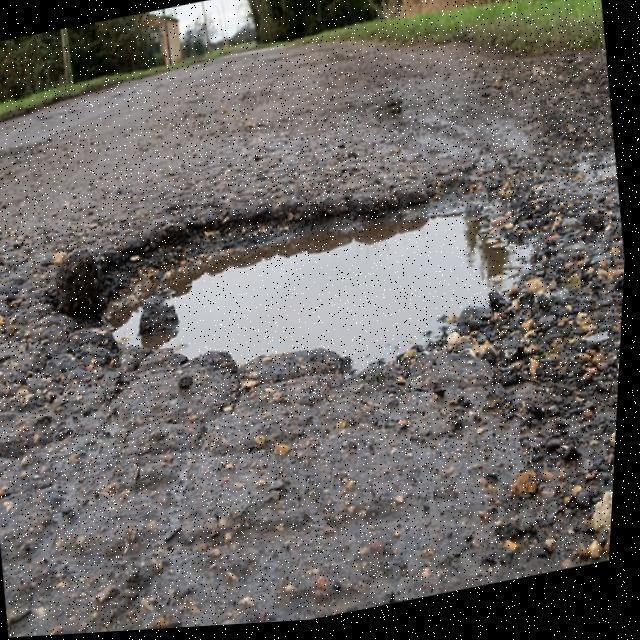Pothole: (50, 154, 578, 383)
